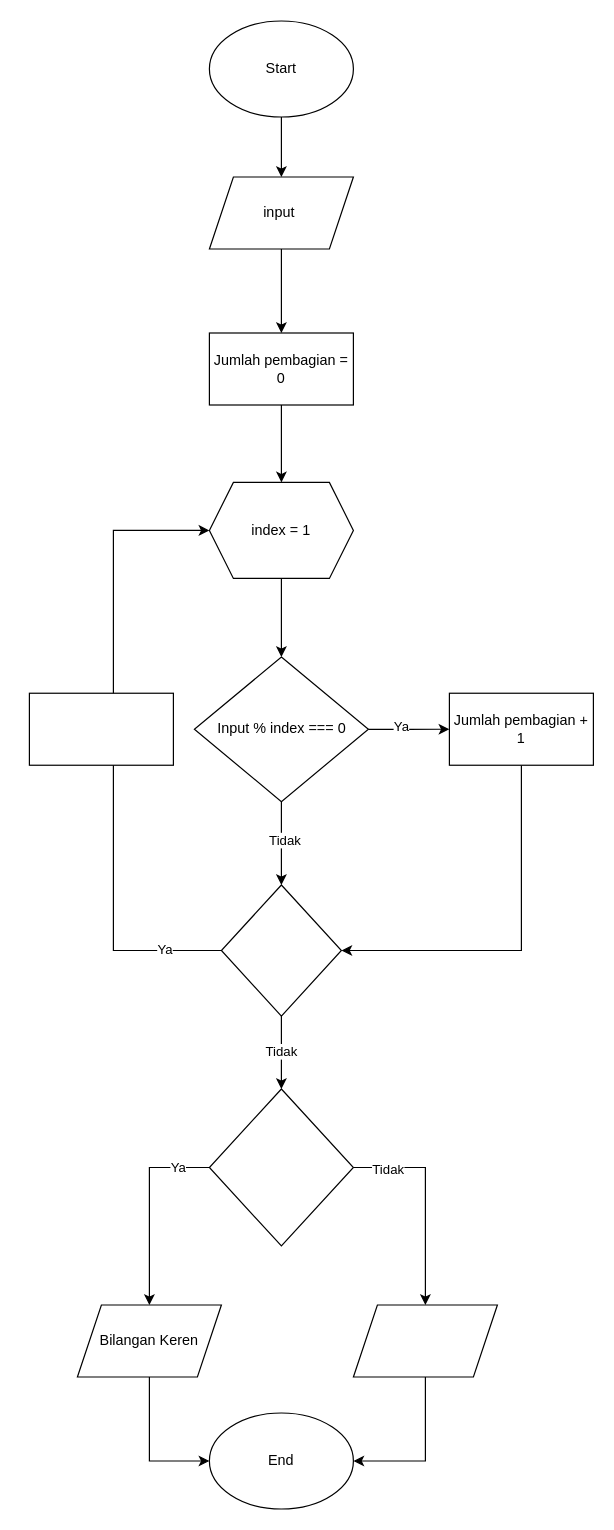
Some shapes in this 614 by 1530 pixel diagram are drawn without their labels. The shapes that lost their labels are listed below. From the top down, each one's box as (x1, y1, x2, y2) in pixels, then its label:
(28, 692, 173, 765): Index + 1
(220, 884, 341, 1016): Index <= Input
(208, 1088, 353, 1246): Jumlah pembagian <= 4
(352, 1304, 497, 1377): Bukan Bilangan Keren
